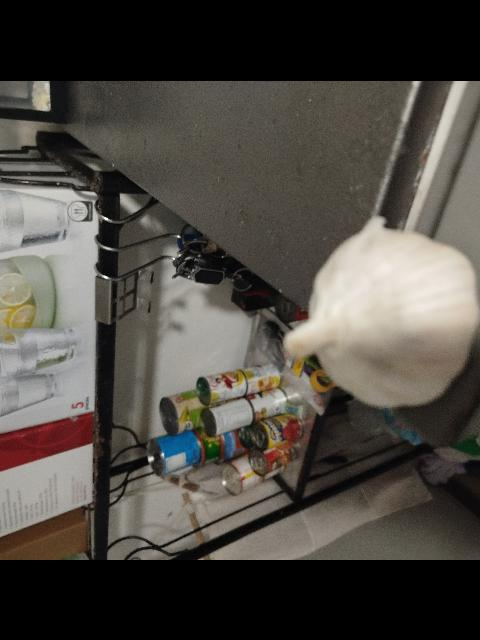garlic: (283, 214, 480, 408)
